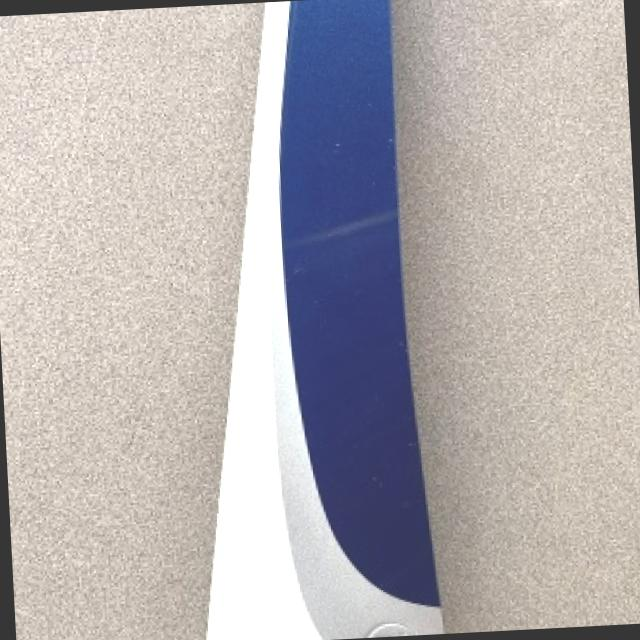healthy: (211, 0, 445, 640)
